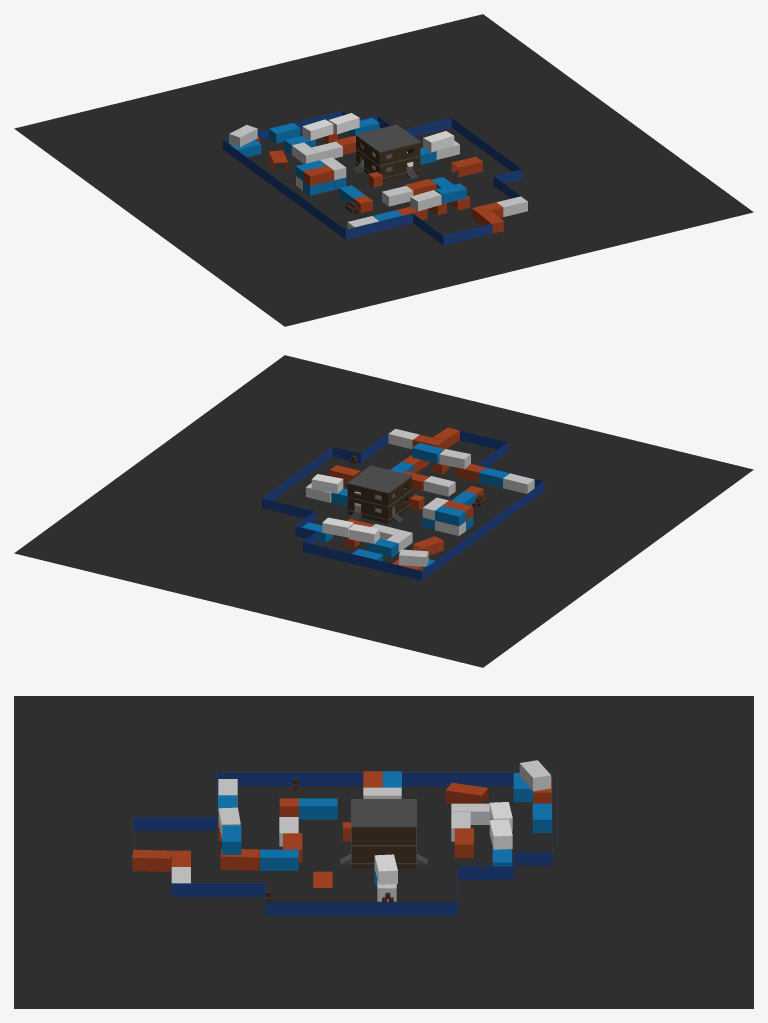
File: myMap.gltf
3 renders of one model, top to bottom at view 1: azimuth 30°, elevation 25°; view 2: azimuth 150°, elevation 25°; view 3: azimuth 270°, elevation 25°, orthographic. The views are drawn at different scales.
Parts seen in each view (by area): view 1: Terrain, MaisonMur, Plane.009, MaisonToit, Plane.008, Plane.011; view 2: Terrain, MaisonMur, Plane.009, Plane.015, MaisonToit, Plane.011; view 3: Terrain, Plane.009, Plane.011, MaisonMur, MaisonToit, Plane.010, Container.025, Container.003, Container.009, Container.028, Plane.014, Container.033 (+8 smaller).
Part boxes in pixels (x1,y1,x2,y2): Terrain: (14, 14, 753, 326); MaisonMur: (356, 136, 420, 181); Plane.009: (222, 140, 345, 239); MaisonToit: (355, 124, 420, 152); Plane.008: (346, 213, 412, 239); Plane.011: (451, 118, 521, 171); Terrain: (14, 355, 753, 667); MaisonMur: (347, 477, 411, 523); Plane.009: (421, 481, 544, 580); Plane.015: (302, 542, 421, 580); MaisonToit: (347, 465, 412, 493); Plane.011: (262, 447, 332, 507); Terrain: (14, 696, 753, 1008); Plane.009: (217, 772, 552, 786); Plane.011: (265, 902, 457, 915); MaisonMur: (351, 827, 416, 868); MaisonToit: (351, 799, 416, 827); Plane.010: (171, 883, 265, 896); Container.025: (132, 849, 171, 871); Container.003: (260, 849, 298, 870); Container.009: (299, 798, 337, 819); Container.028: (445, 782, 488, 804); Plane.014: (458, 866, 513, 879); Container.033: (519, 760, 550, 791).
Bounding box in the file's own units: 115 × 7.29 × 115.
